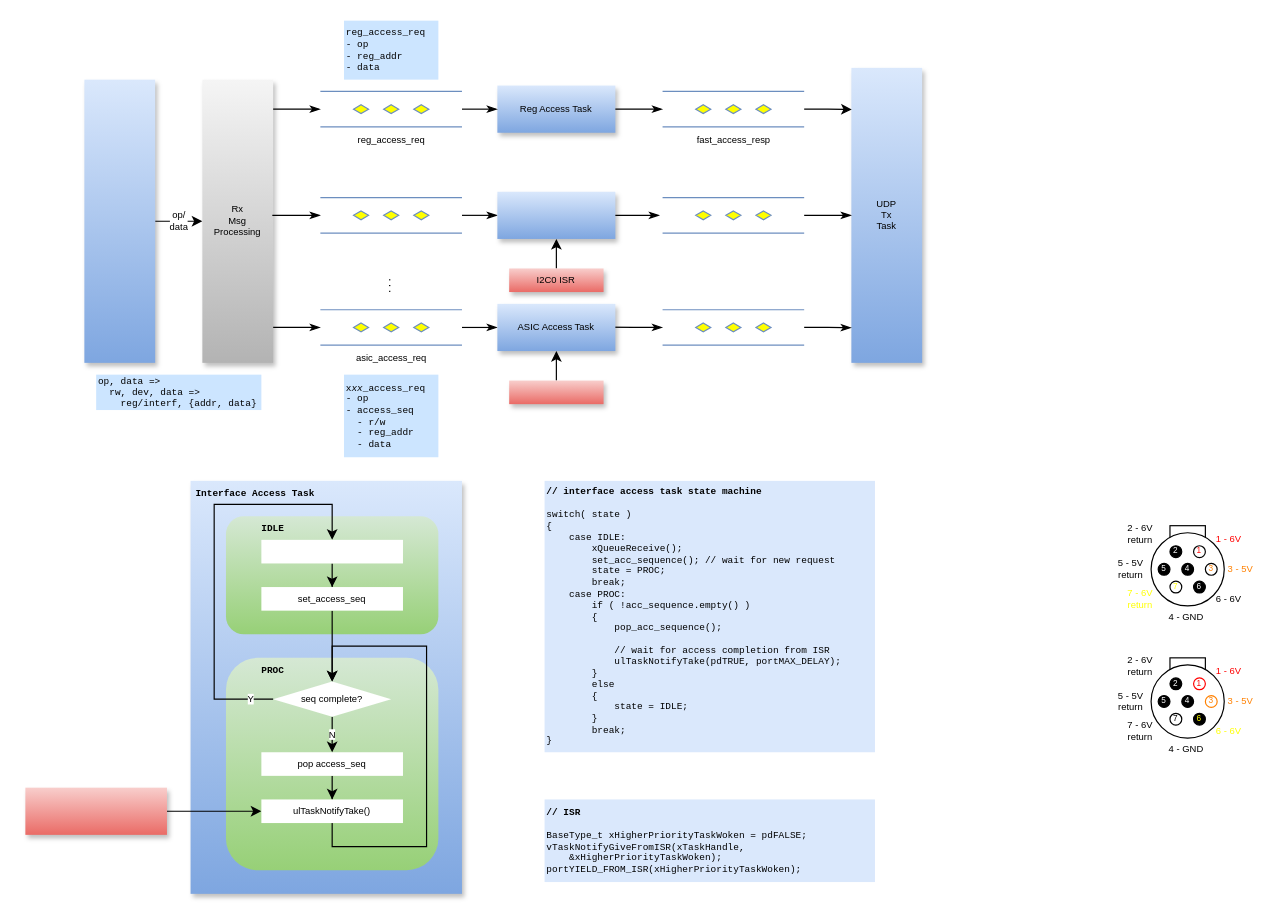
This 1284x922 diagram has some shape labels left out. The centre of each missing label's shape, as x and y in pixels:
"ASIC ISR" goes at point 557,393.
"asic_access_resp" goes at point 732,327.
"I2C0 Access Task" goes at point 557,216.
"i2c0_access_resp" goes at point 732,214.
"ISR - vTaskNotifyGiveFromISR();" goes at point 96,812.
"ps_if_access_req" goes at point 390,214.
"UDP Rx Task" goes at point 120,222.
"xQueueReceive()" goes at point 331,551.
